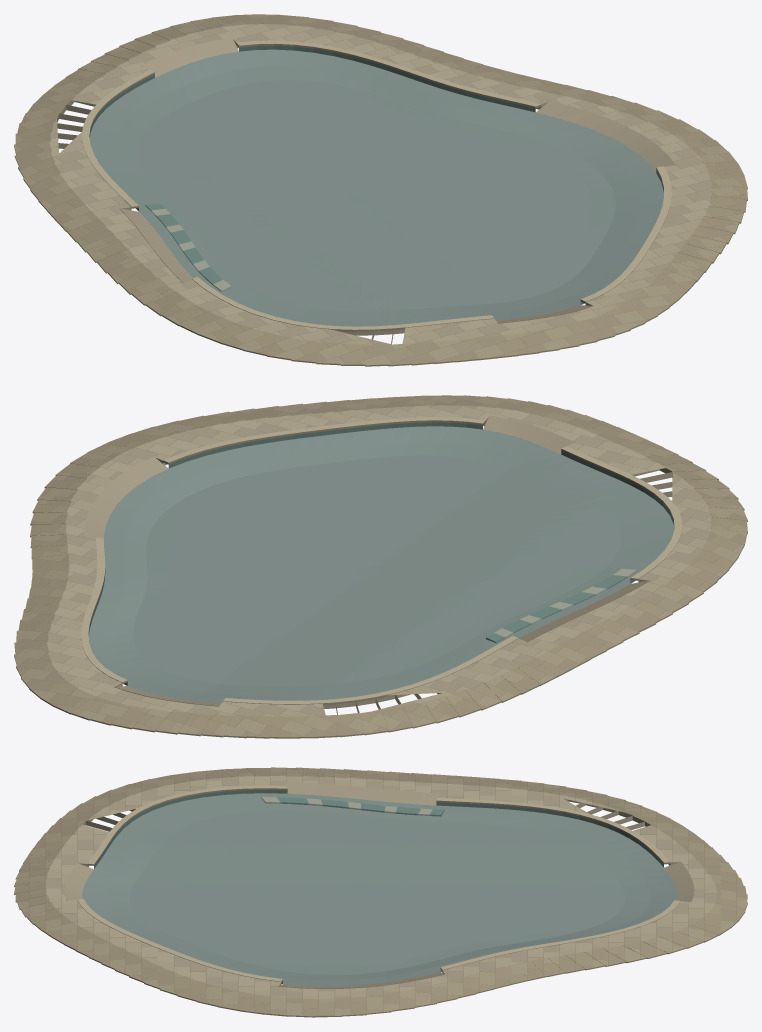
File: basin.glb
3 renders of one model, top to bottom at view 1: azimuth 30°, elevation 25°; view 2: azimuth 150°, elevation 25°; view 3: azimuth 270°, elevation 25°, orthographic. The views are drawn at different scales.
Visible parts, largest first — view 1: mineral-floor.stone, coping-liner-and-pavers.stone, submerged-seat-ledge.stone; view 2: mineral-floor.stone, coping-liner-and-pavers.stone, submerged-seat-ledge.stone; view 3: mineral-floor.stone, coping-liner-and-pavers.stone, submerged-seat-ledge.stone.
Part boxes in pixels (x1,y1,x2,y2): mineral-floor.stone: (89, 49, 663, 326); coping-liner-and-pavers.stone: (14, 14, 747, 366); submerged-seat-ledge.stone: (145, 203, 231, 291); mineral-floor.stone: (88, 426, 674, 703); coping-liner-and-pavers.stone: (14, 395, 747, 738); submerged-seat-ledge.stone: (486, 568, 636, 642); mineral-floor.stone: (82, 793, 676, 986); coping-liner-and-pavers.stone: (14, 767, 747, 1017); submerged-seat-ledge.stone: (261, 797, 444, 816).
Bounding box in the file's own units: 45.82 × 0.88 × 57.07.
